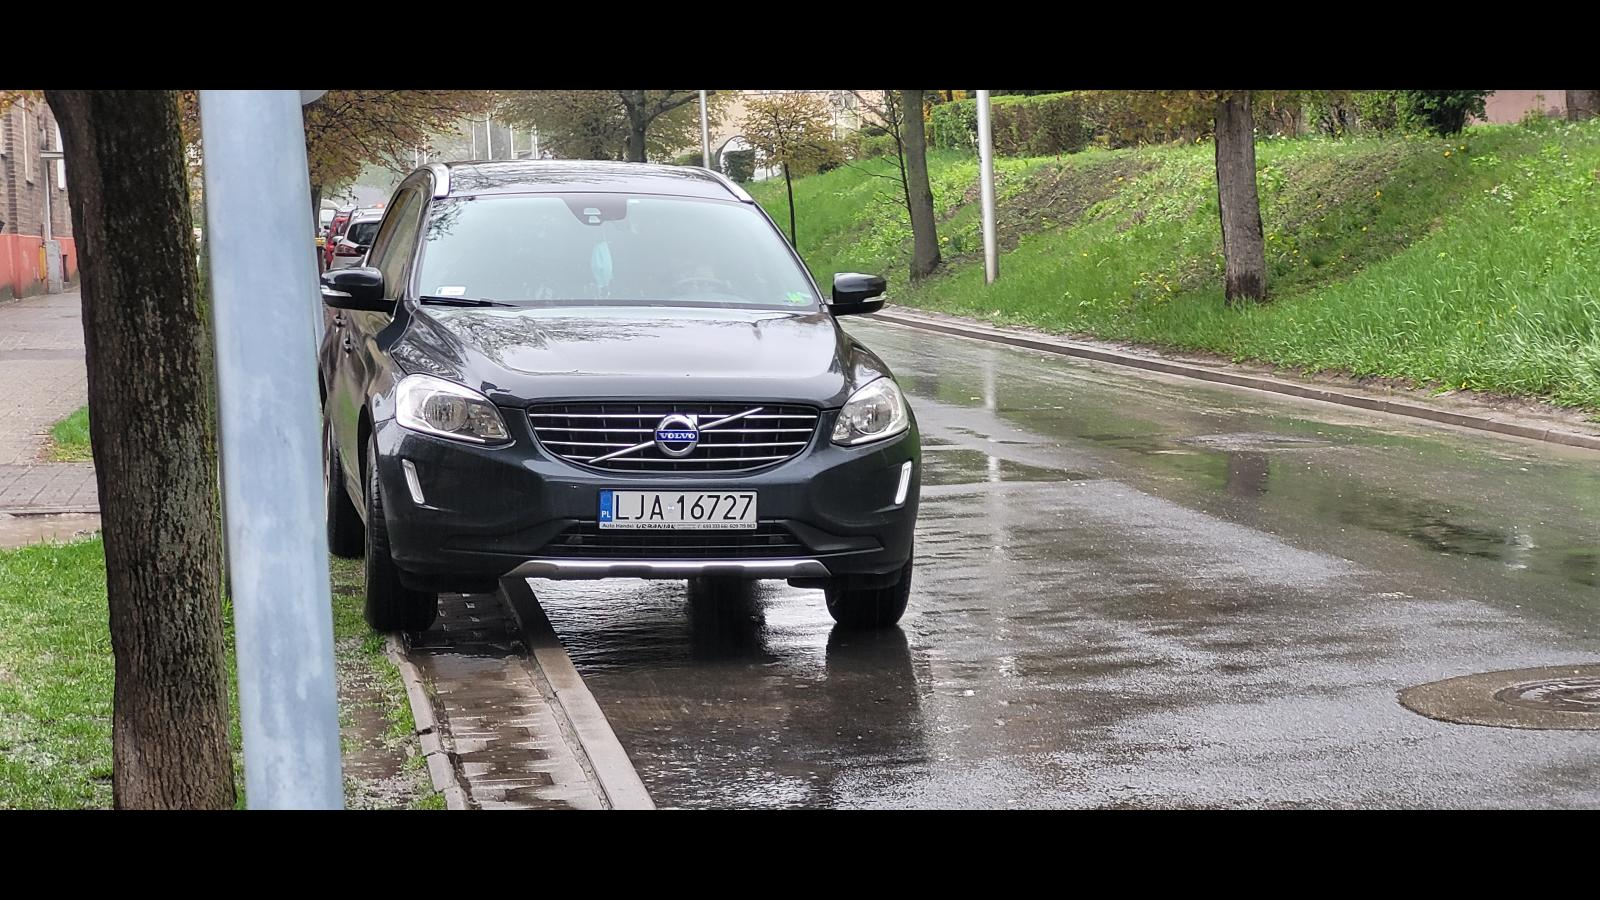plates: (597, 488, 759, 530)
